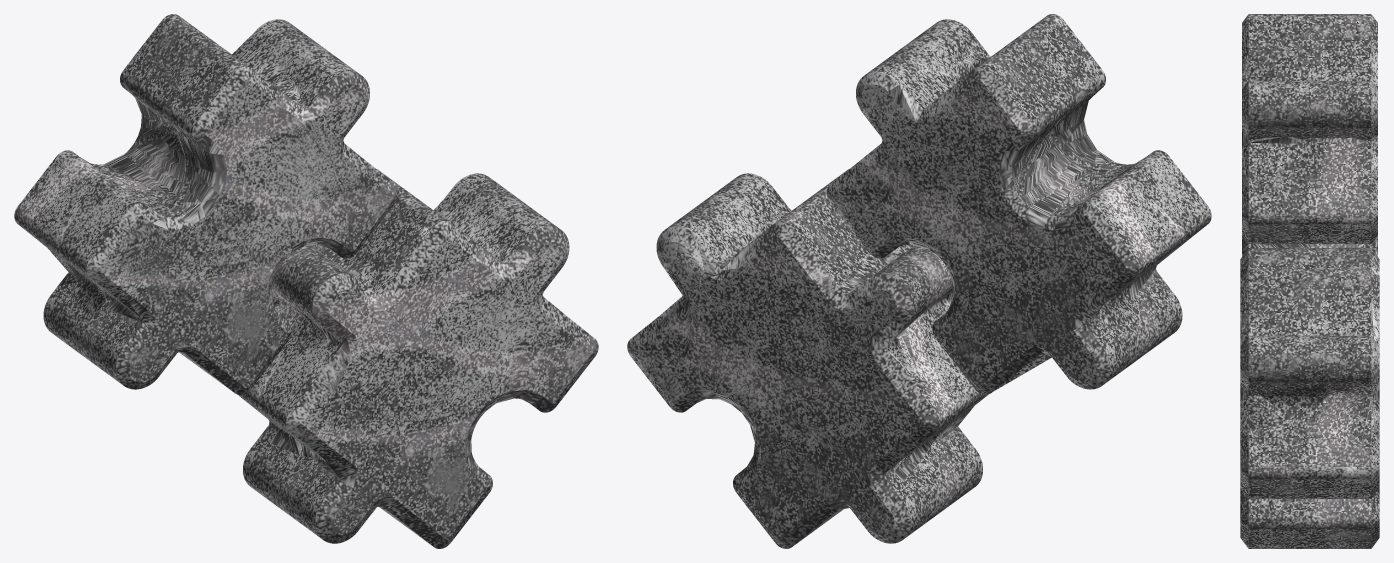
Rendered from The Keystone.glb.
The picture shows the model from 3 angles, left to right: view 1: azimuth 30°, elevation 25°; view 2: azimuth 150°, elevation 25°; view 3: azimuth 270°, elevation 25°; orthographic projection. The views are drawn at different scales.
Visible parts, largest first — view 1: Mesh_0.001, Mesh_0.001_cell.034, Mesh_0.001_cell.021, Mesh_0.001_cell.007, Mesh_0.001_cell.071, Mesh_0.001_cell.014, Mesh_0.001_cell.059, Mesh_0.001_cell.031, Mesh_0.001_cell.002, Mesh_0.001_cell.033, Mesh_0.001_cell.096, Mesh_0.001_cell (+15 smaller); view 2: Mesh_0.001, Mesh_0.001_cell.031, Mesh_0.001_cell.018, Mesh_0.001_cell.023, Mesh_0.001_cell.087, Mesh_0.001_cell.035, Mesh_0.001_cell.011, Mesh_0.001_cell.094, Mesh_0.001_cell, Mesh_0.001_cell.009, Mesh_0.001_cell.028, Mesh_0.001_cell.054 (+11 smaller); view 3: Mesh_0.001, Mesh_0.001_cell.060, Mesh_0.001_cell, Mesh_0.001_cell.018, Mesh_0.001_cell.034, Mesh_0.001_cell.099, Mesh_0.001_cell.059, Mesh_0.001_cell.066, Mesh_0.001_cell.064, Mesh_0.001_cell.055, Mesh_0.001_cell.098, Mesh_0.001_cell.052 (+2 smaller).
Boxes of the visible parts, x1,y1,x2,y2 form: Mesh_0.001: (14, 14, 598, 548); Mesh_0.001_cell.034: (262, 80, 376, 236); Mesh_0.001_cell.021: (301, 382, 446, 490); Mesh_0.001_cell.007: (171, 81, 272, 248); Mesh_0.001_cell.071: (409, 283, 517, 378); Mesh_0.001_cell.014: (80, 173, 185, 283); Mesh_0.001_cell.059: (449, 296, 568, 429); Mesh_0.001_cell.031: (105, 133, 185, 195); Mesh_0.001_cell.002: (147, 262, 214, 361); Mesh_0.001_cell.033: (372, 237, 451, 324); Mesh_0.001_cell.096: (198, 242, 268, 349); Mesh_0.001_cell: (433, 199, 537, 291); Mesh_0.001: (627, 14, 1211, 548); Mesh_0.001_cell.031: (1023, 135, 1086, 249); Mesh_0.001_cell.018: (642, 241, 759, 377); Mesh_0.001_cell.023: (1024, 248, 1106, 371); Mesh_0.001_cell.087: (752, 429, 824, 540); Mesh_0.001_cell.035: (772, 380, 890, 495); Mesh_0.001_cell.011: (823, 300, 955, 373); Mesh_0.001_cell.094: (862, 63, 956, 143); Mesh_0.001_cell: (710, 207, 784, 271); Mesh_0.001_cell.009: (841, 282, 928, 369); Mesh_0.001_cell.028: (811, 448, 923, 532); Mesh_0.001_cell.054: (827, 238, 876, 291); Mesh_0.001: (1240, 14, 1379, 548); Mesh_0.001_cell.060: (1284, 135, 1376, 209); Mesh_0.001_cell: (1250, 278, 1379, 423); Mesh_0.001_cell.018: (1303, 375, 1379, 456); Mesh_0.001_cell.034: (1242, 46, 1308, 191); Mesh_0.001_cell.099: (1279, 499, 1377, 514); Mesh_0.001_cell.059: (1240, 388, 1289, 436); Mesh_0.001_cell.066: (1272, 196, 1341, 237); Mesh_0.001_cell.064: (1241, 276, 1284, 340); Mesh_0.001_cell.055: (1314, 440, 1371, 464); Mesh_0.001_cell.098: (1260, 276, 1315, 335); Mesh_0.001_cell.052: (1247, 225, 1269, 240).
Bounding box in the file's own units: 0.2291 × 0.2266 × 0.0635.
2 materials, 2 textured.
